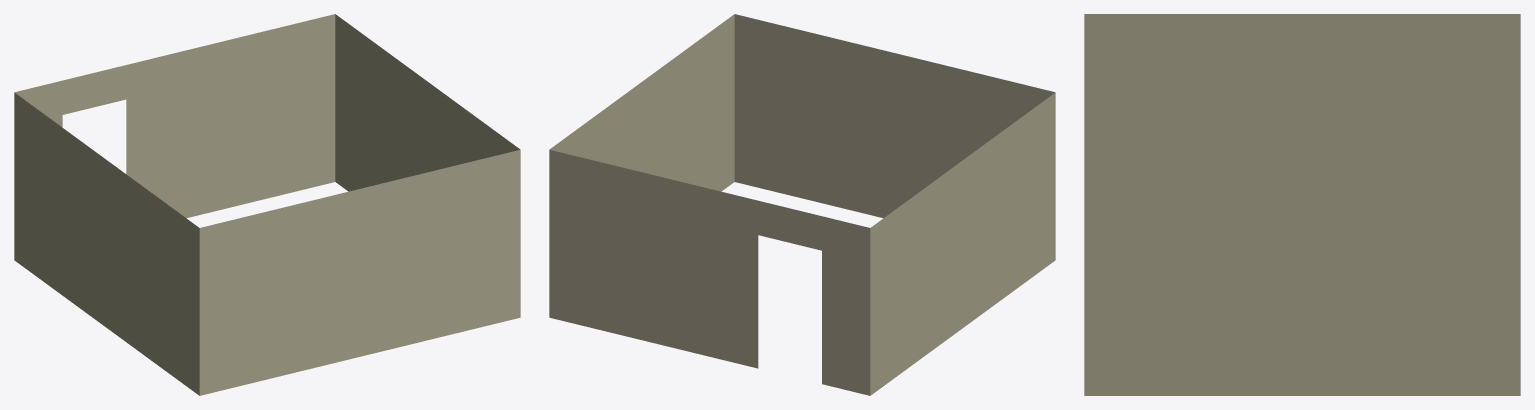
File: Homeworld_Interior_Md_Room_H_Filling_01_Vo.fbx
The picture shows the model from 3 angles, left to right: view 1: azimuth 30°, elevation 25°; view 2: azimuth 150°, elevation 25°; view 3: azimuth 270°, elevation 25°; orthographic projection. The views are drawn at different scales.
Parts seen in each view (by area): view 1: Homeworld_Interior_Md_Room_H_Filling_01_Vo; view 2: Homeworld_Interior_Md_Room_H_Filling_01_Vo; view 3: Homeworld_Interior_Md_Room_H_Filling_01_Vo.
Part boxes in pixels (x1,y1,x2,y2): Homeworld_Interior_Md_Room_H_Filling_01_Vo: (14,14,520,395); Homeworld_Interior_Md_Room_H_Filling_01_Vo: (549,14,1055,395); Homeworld_Interior_Md_Room_H_Filling_01_Vo: (1084,14,1520,395).
Size of the model in its own units: 10 by 5 by 10.
